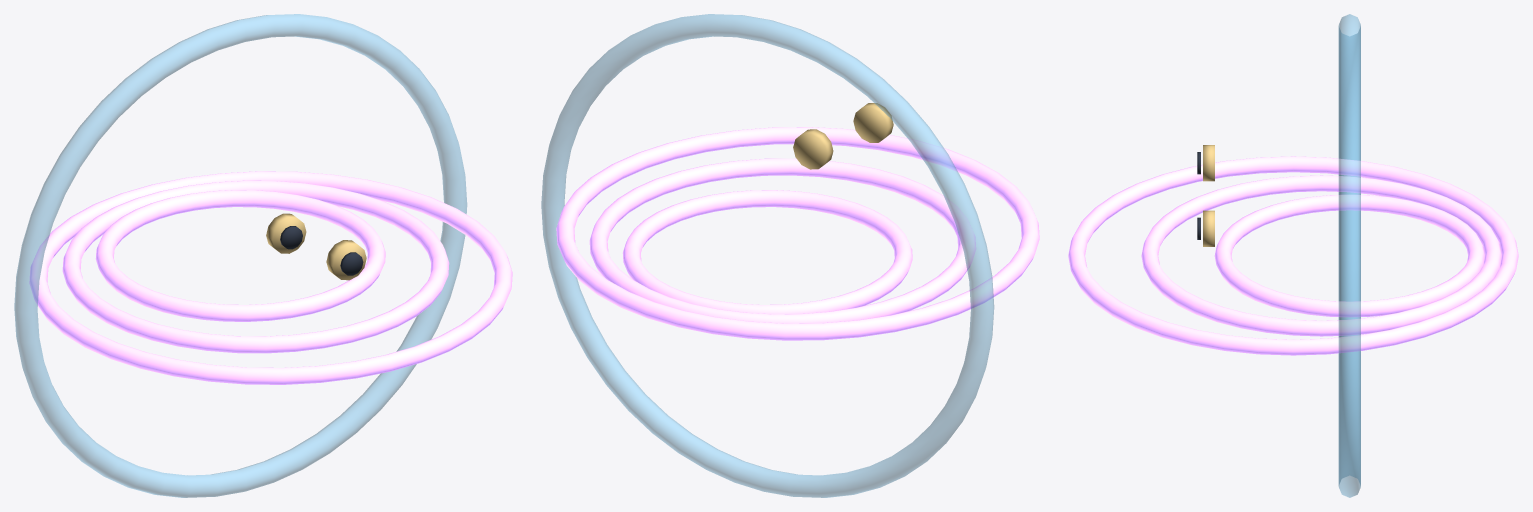
File: 69_L91_NavigationUncertaintyHologram.glb
3 renders of one model, left to right at view 1: azimuth 30°, elevation 25°; view 2: azimuth 150°, elevation 25°; view 3: azimuth 270°, elevation 25°, orthographic. The views are drawn at different scales.
Visible parts, largest first — view 1: L91_NavigationUncertaintyHolo_Part_0001, L91_NavigationUncertaintyHolo_Part_0000, L91_NavigationUncertaintyHolo_Part_0002, L91_NavigationUncertaintyHolo_Part_0004; view 2: L91_NavigationUncertaintyHolo_Part_0001, L91_NavigationUncertaintyHolo_Part_0000, L91_NavigationUncertaintyHolo_Part_0004, L91_NavigationUncertaintyHolo_Part_0002; view 3: L91_NavigationUncertaintyHolo_Part_0001, L91_NavigationUncertaintyHolo_Part_0000.
Boxes of the visible parts, box(x1,y1,x2,y2) form: L91_NavigationUncertaintyHolo_Part_0001: box(29, 171, 512, 384); L91_NavigationUncertaintyHolo_Part_0000: box(14, 14, 467, 497); L91_NavigationUncertaintyHolo_Part_0002: box(266, 213, 306, 253); L91_NavigationUncertaintyHolo_Part_0004: box(326, 240, 366, 280); L91_NavigationUncertaintyHolo_Part_0001: box(556, 127, 1039, 340); L91_NavigationUncertaintyHolo_Part_0000: box(541, 14, 994, 497); L91_NavigationUncertaintyHolo_Part_0004: box(793, 129, 833, 169); L91_NavigationUncertaintyHolo_Part_0002: box(853, 103, 893, 142); L91_NavigationUncertaintyHolo_Part_0001: box(1068, 156, 1518, 355); L91_NavigationUncertaintyHolo_Part_0000: box(1338, 14, 1360, 497).
Bounding box in the file's own units: 1.72 × 1.72 × 1.6.
